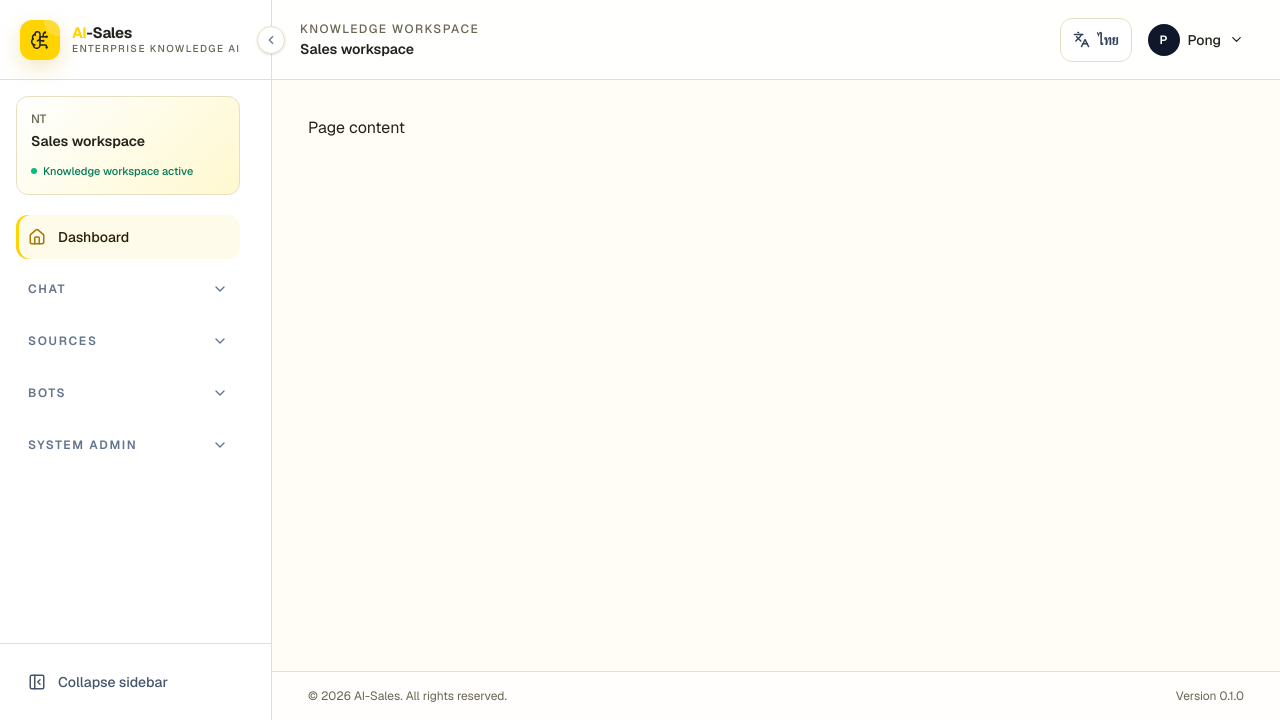
Scenario: workspace sidebar toggle › collapses the sidebar to an icon rail and remembers the choice
expect the text "Knowledge workspace active" is shown: met, box [31,164,193,178]
Click the button named "Collapse sidebar".
click(271, 40)  # box [257,26,285,54]
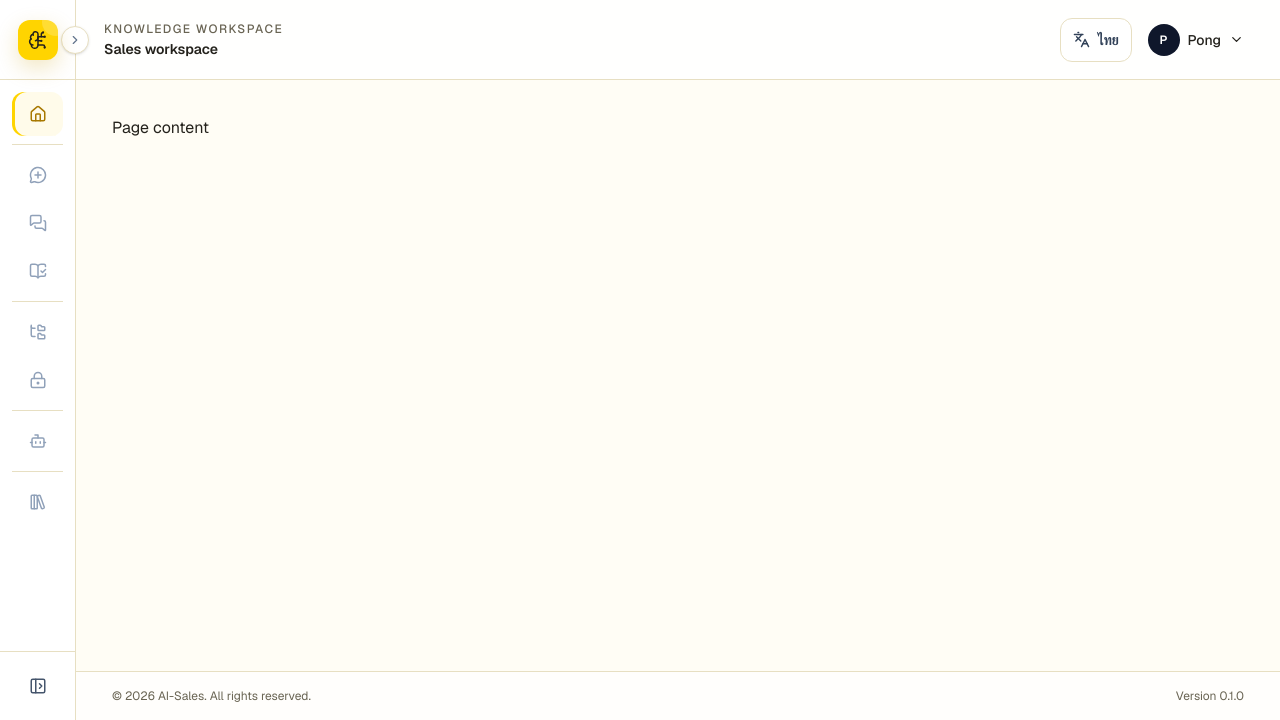
expect the 1st button named "Expand sidebar" is collapsed: met, box [61,26,89,54]
expect the 2nd button named "Expand sidebar" is collapsed: met, box [12,664,63,708]
expect the text "Knowledge workspace active" is gone: met
